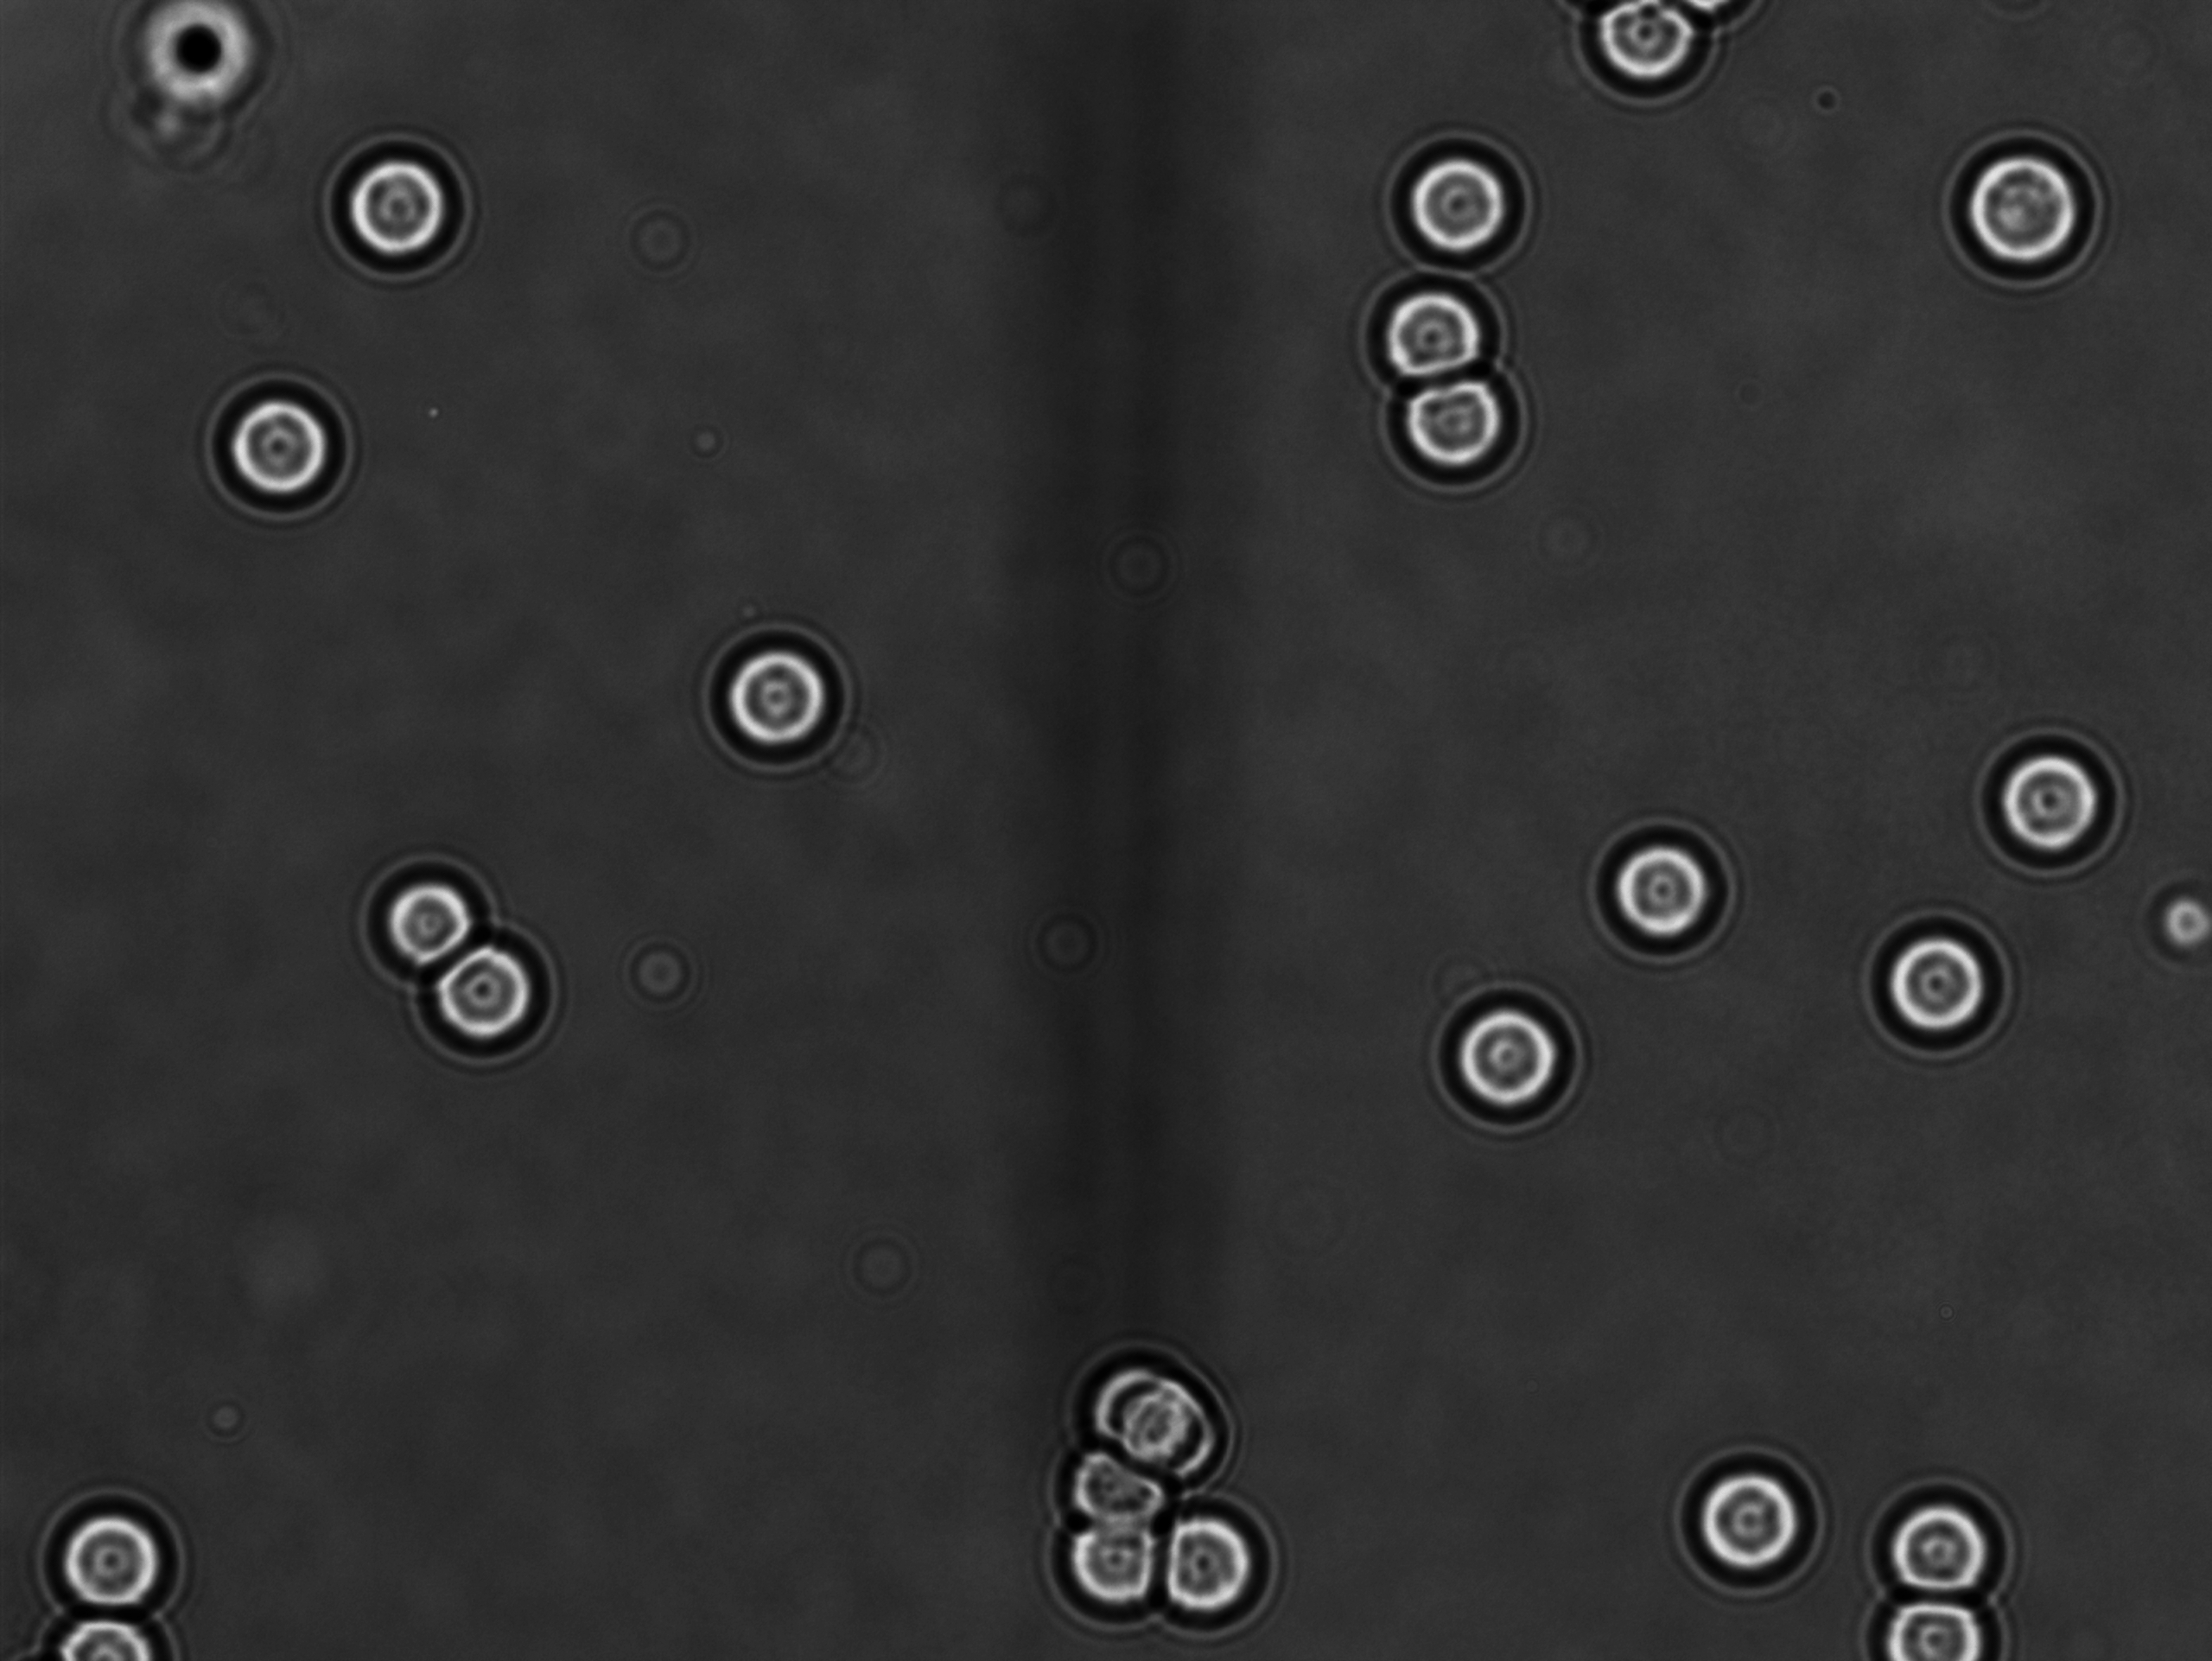depth:20: (1415, 968, 1605, 1150), (1952, 705, 2139, 886), (1369, 345, 1567, 508), (1570, 792, 1734, 974), (1661, 1434, 1840, 1595), (33, 1471, 215, 1630), (1853, 893, 2020, 1064), (696, 609, 862, 780), (1942, 131, 2113, 297), (1371, 122, 1547, 277), (413, 932, 583, 1089), (1861, 1467, 2032, 1623), (185, 361, 344, 523), (1350, 258, 1525, 405), (345, 850, 515, 1000), (307, 115, 455, 281)
